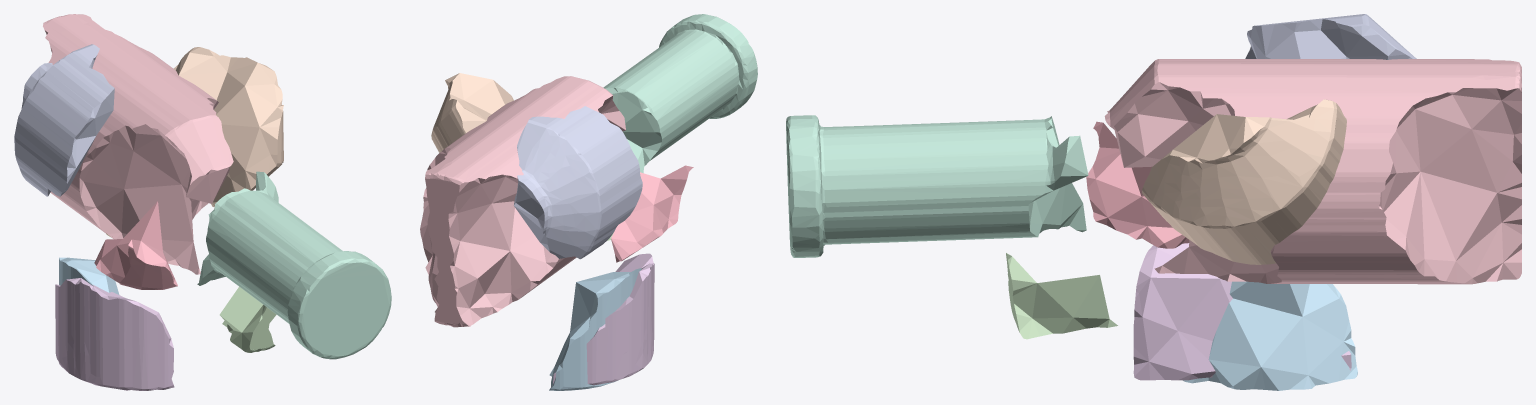
Rendered from view_input_colored.glb.
The picture shows the model from 3 angles, left to right: view 1: azimuth 30°, elevation 25°; view 2: azimuth 150°, elevation 25°; view 3: azimuth 270°, elevation 25°; orthographic projection. The views are drawn at different scales.
Parts seen in each view (by area): view 1: world; view 2: world; view 3: world.
Boxes of the visible parts, left/top/right/bottom form: world: left=14, top=14, right=391, bottom=390; world: left=420, top=14, right=757, bottom=390; world: left=786, top=14, right=1521, bottom=390.
Bounding box in the file's own units: 0.4752 × 0.602 × 1.1.
